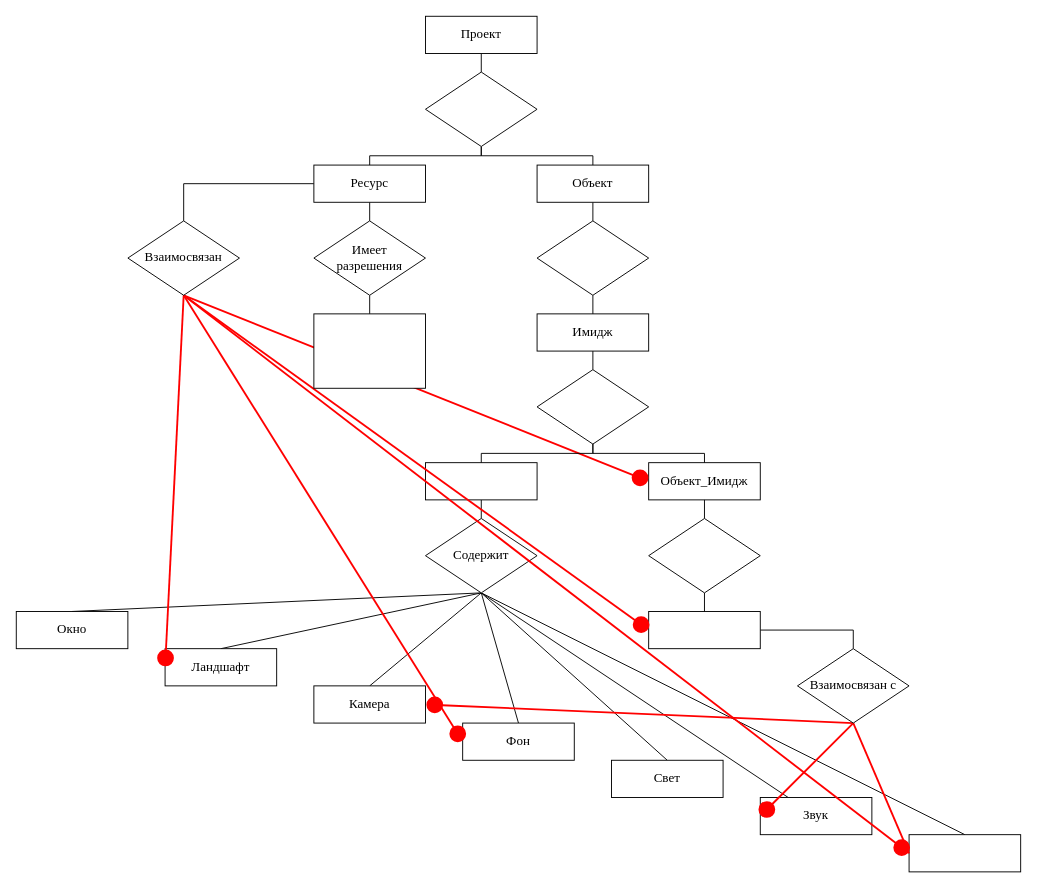
The diagram is 1037 pixels wide and 888 high, and some of its shapes have lost their labels. Each missing label, with the centre of its shape:
"*.mesh *.material *.particle *.overlay *.scene" goes at [369,350].
"Может быть" goes at [704,555].
"Персонаж" goes at [704,630].
"Представлен" goes at [592,257].
"Состоит из" goes at [481,108].
"Сцена" goes at [481,481].
"Частица" goes at [964,853].
